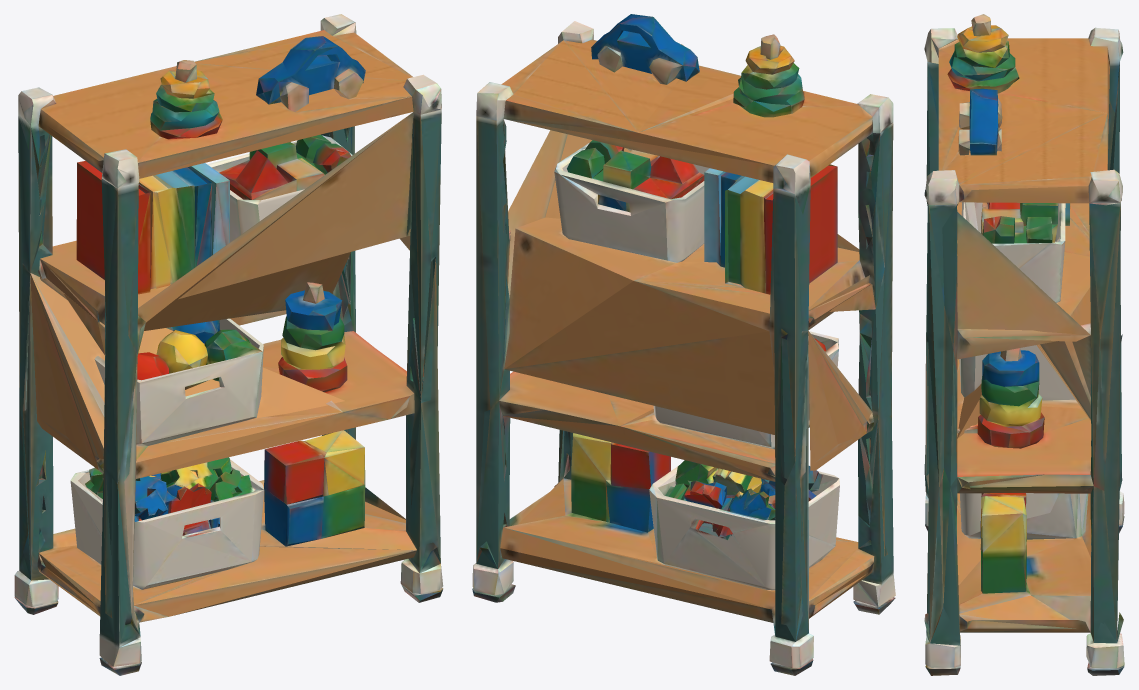
Rendered from storageShelf.glb.
3 views of the same model, side by side, from view 1: azimuth 30°, elevation 25°; view 2: azimuth 150°, elevation 25°; view 3: azimuth 270°, elevation 25° (orthographic). The views are drawn at different scales.
Visible parts, largest first — view 1: Mesh_0; view 2: Mesh_0; view 3: Mesh_0.
Part boxes in pixels (x1,y1,x2,y2): Mesh_0: [14, 14, 443, 675]; Mesh_0: [472, 14, 895, 675]; Mesh_0: [924, 14, 1124, 675].
Size of the model in its own units: 0.836 by 1.37 by 0.45.
1 material, 1 textured.
